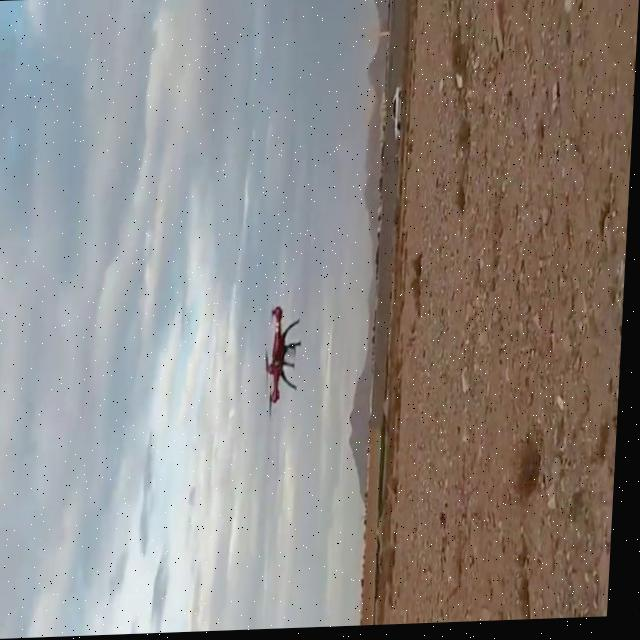drone: (263, 301, 309, 421)
